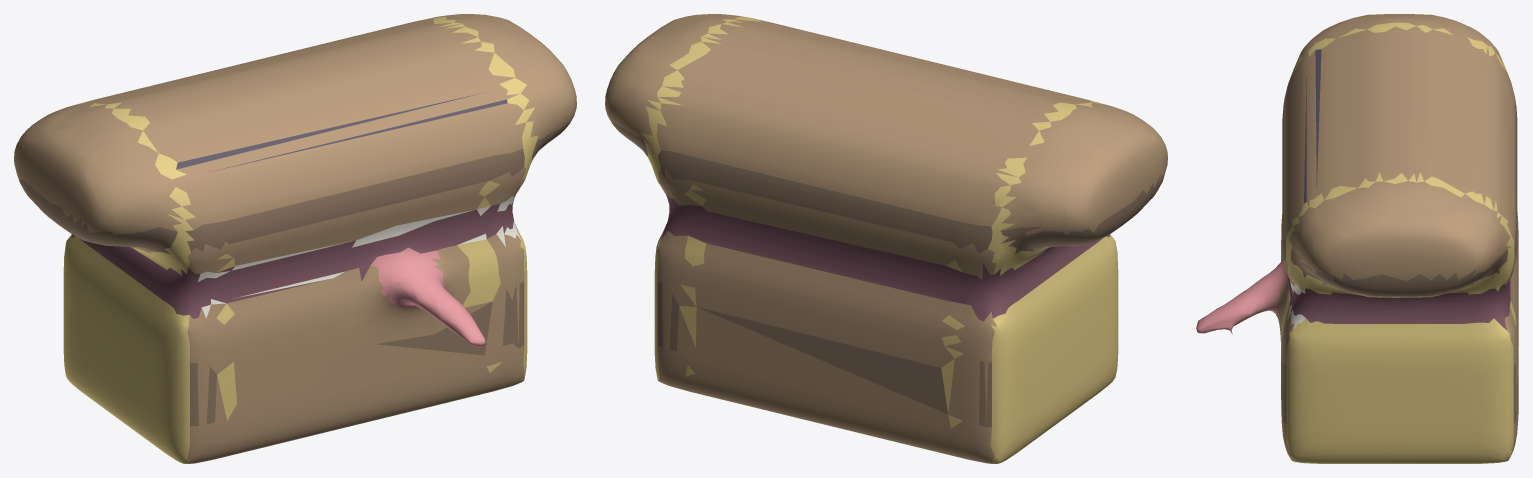
File: mimic.glb
3 views of the same model, side by side, from view 1: azimuth 30°, elevation 25°; view 2: azimuth 150°, elevation 25°; view 3: azimuth 270°, elevation 25° (orthographic). The views are drawn at different scales.
Parts seen in each view (by area): view 1: mimic; view 2: mimic; view 3: mimic.
Part boxes in pixels (x1=…): mimic: x1=14, y1=14, x2=576, y2=463; mimic: x1=605, y1=14, x2=1167, y2=463; mimic: x1=1196, y1=14, x2=1518, y2=463.
Bounding box in the file's own units: 44.31 × 27.21 × 27.39.
